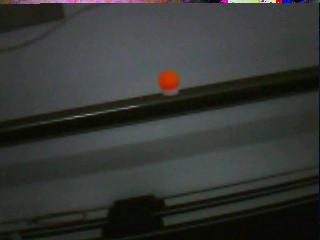oball: (158, 70, 179, 91)
